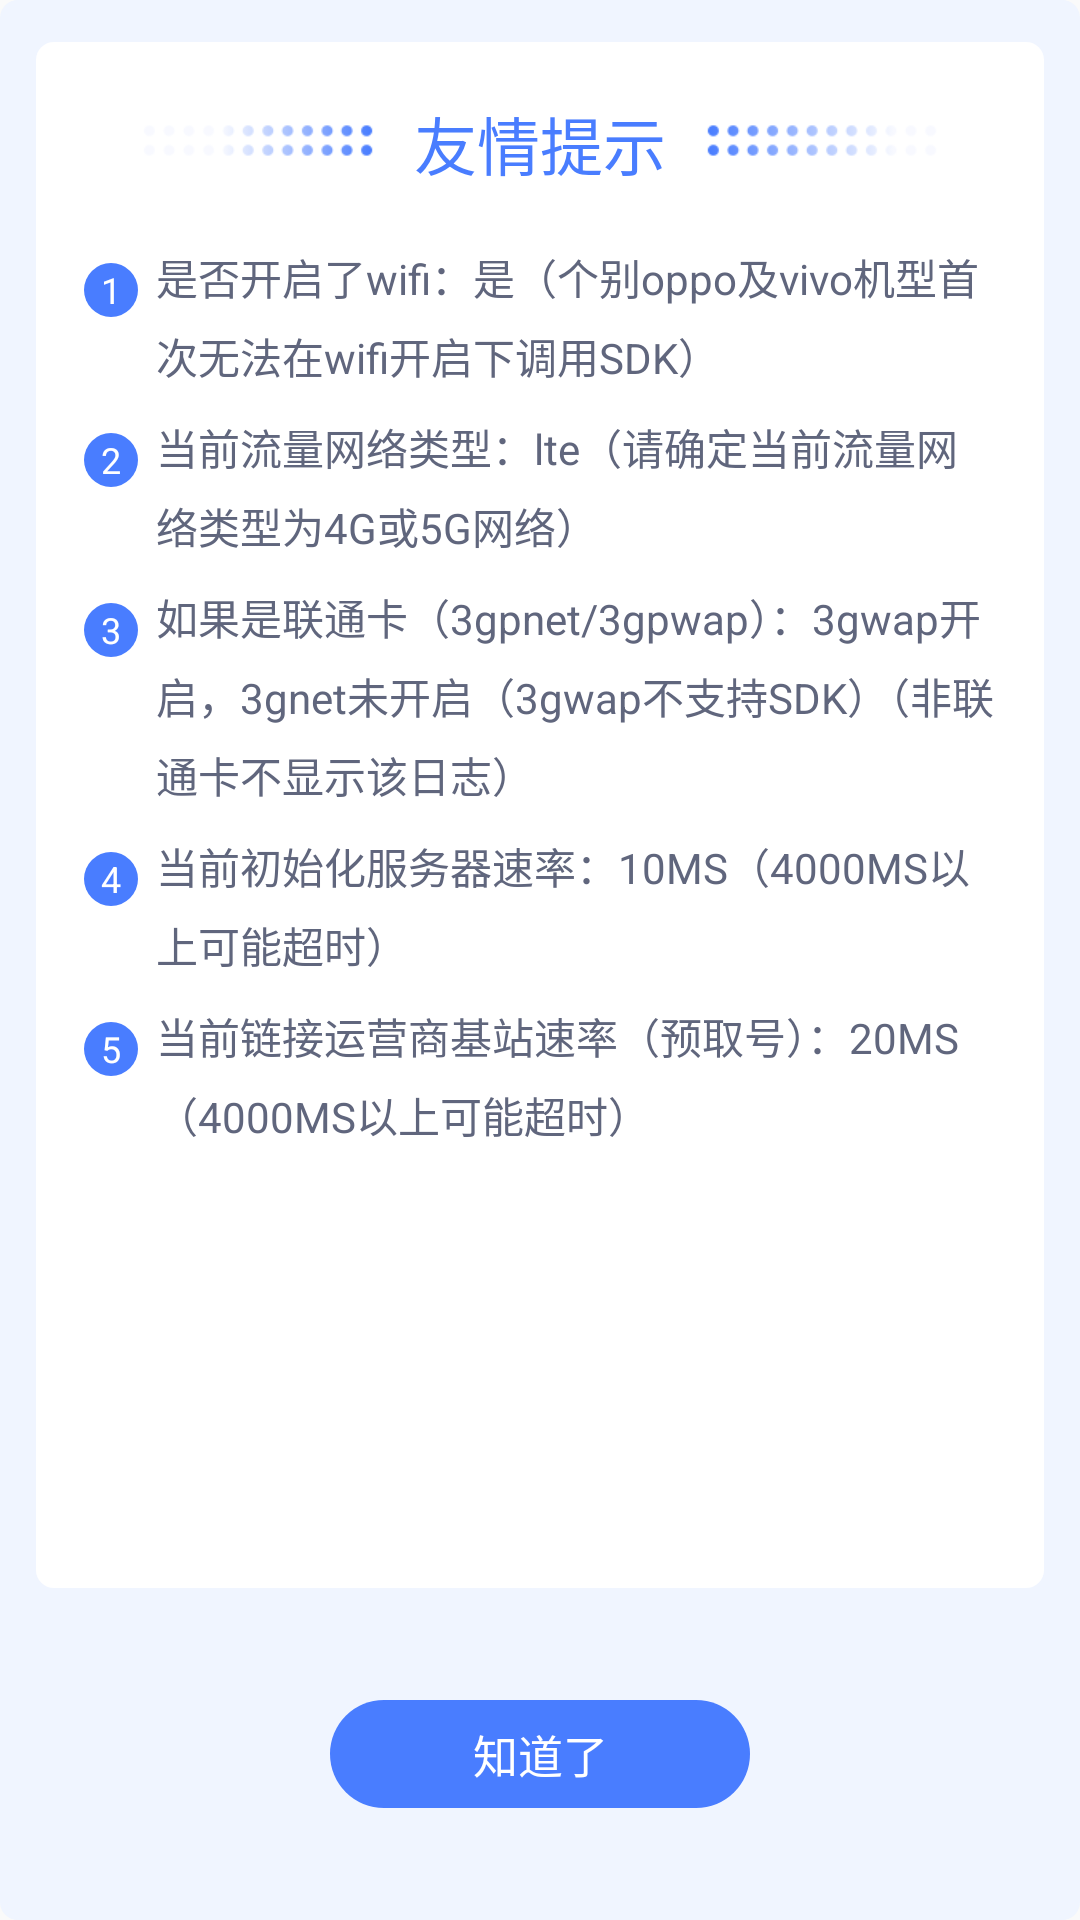

Locate icon controls on the screen. Image size 1080w x 1920h, boxes as (x1, y1, x2, y2).
login dialog title left: (243, 125, 373, 156)
login dialog title right: (707, 125, 875, 156)
